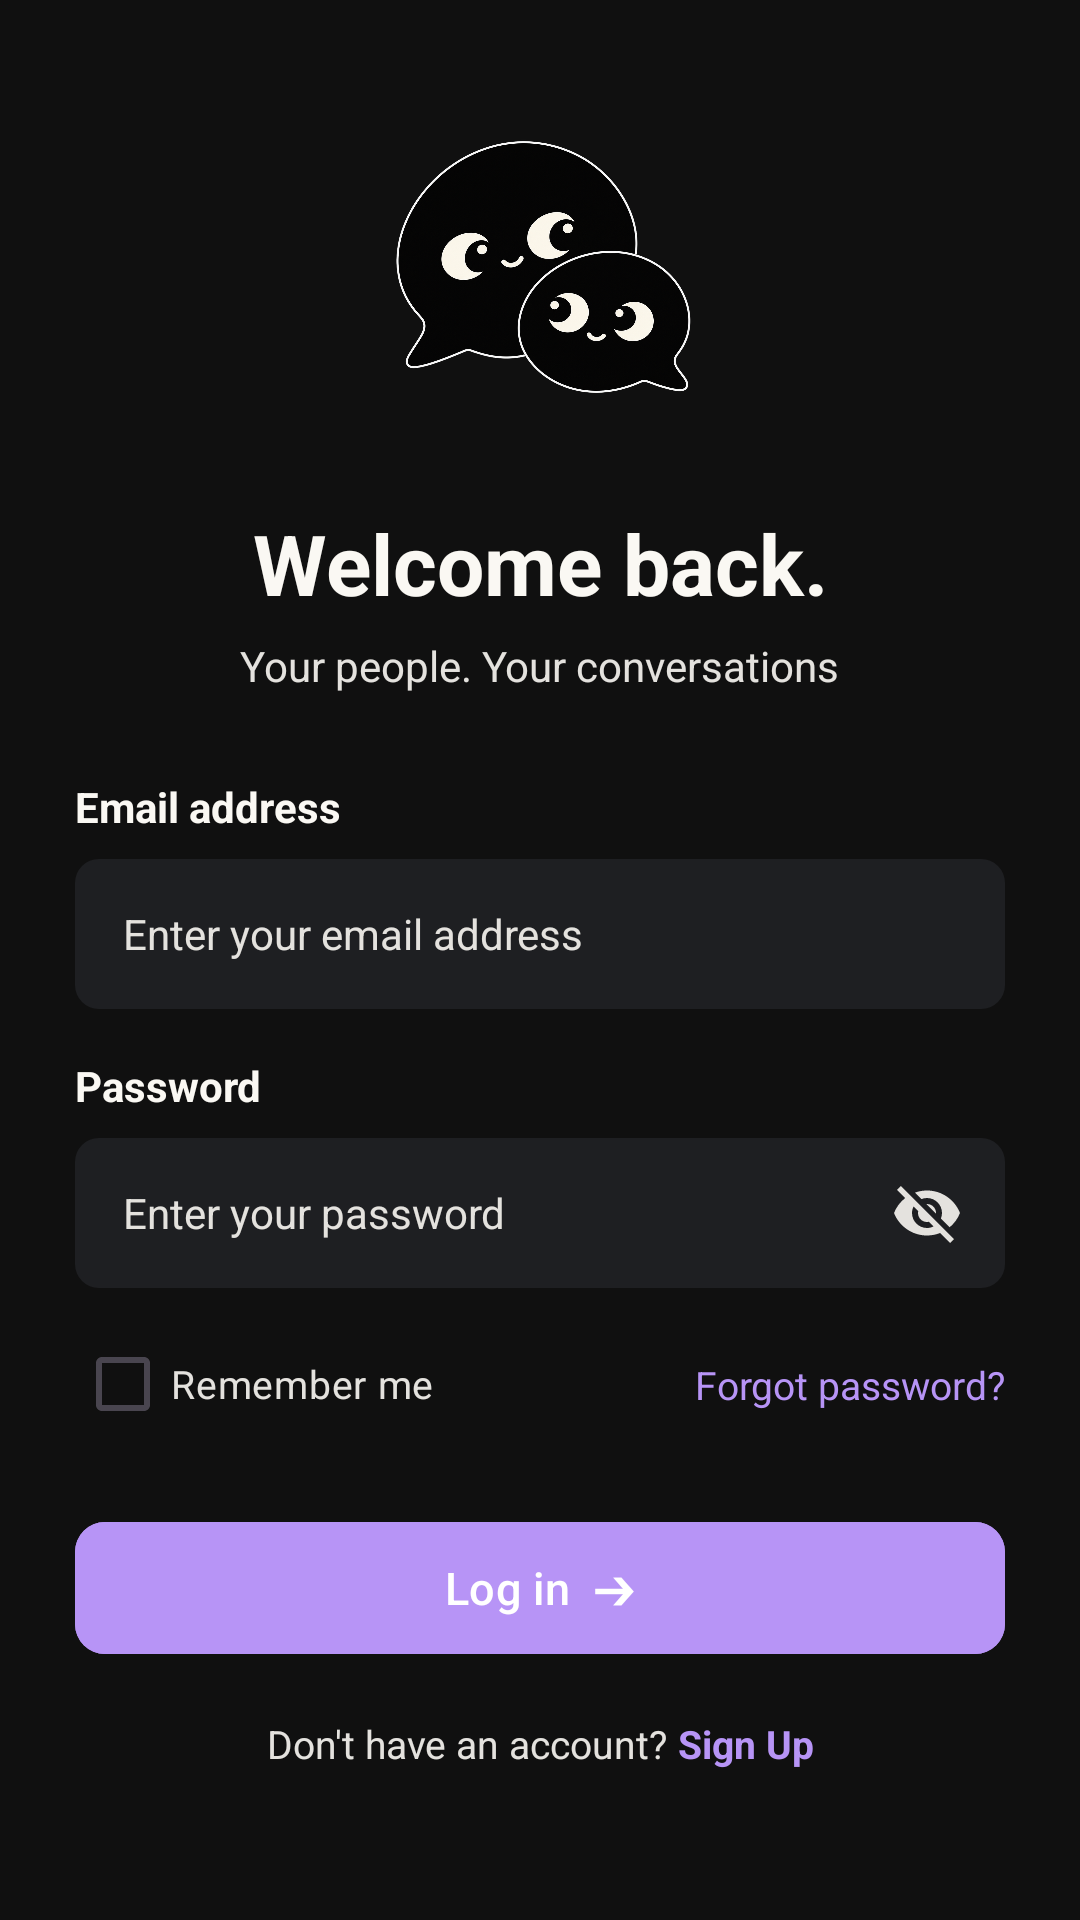

Where icons sit on this 1080w x 1920h app screen, as region(x1, y1, x2, y2):
Toggle password visibility: region(894, 1186, 960, 1243)
